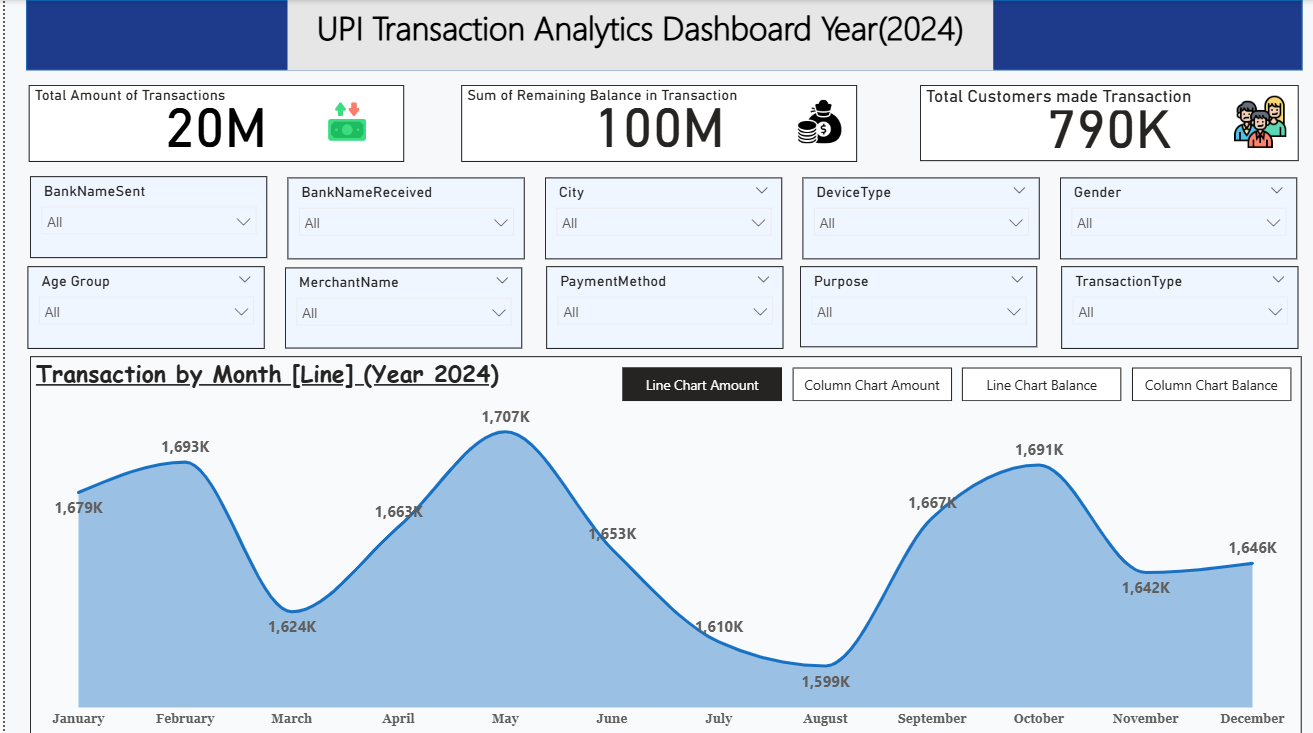

Layout of this report page (visuals, bound fields, positions):
{"tool":"powerbi","page":{"name":"Page 1","canvas":[1280,720],"ordinal":0},"visuals":[{"type":"slicer","fields":{"Values":["Sheet1.BankNameSent"]},"box":[23.9,172.6,232,80],"z":0},{"type":"slicer","fields":{"Values":["Sheet1.BankNameReceived"]},"box":[275.9,173.2,232,80],"z":1000},{"type":"slicer","fields":{"Values":["Sheet1.City"]},"box":[527.9,173.2,232,80],"z":2000},{"type":"slicer","fields":{"Values":["Sheet1.DeviceType"]},"box":[779.9,173.2,232,80],"z":3000},{"type":"slicer","fields":{"Values":["Sheet1.Gender"]},"box":[1031.9,173.2,232,80],"z":4000},{"type":"slicer","fields":{"Values":["Sheet1.Age Group"]},"box":[22.5,261,232.3,80.7],"z":5000},{"type":"slicer","fields":{"Values":["Sheet1.MerchantName"]},"box":[274.4,262.2,232.3,79.5],"z":6000},{"type":"slicer","fields":{"Values":["Sheet1.PaymentMethod"]},"box":[530,261,232.3,80.7],"z":7000},{"type":"slicer","fields":{"Values":["Sheet1.Purpose"]},"box":[778.2,261,232.3,79.5],"z":8000},{"type":"slicer","fields":{"Values":["Sheet1.TransactionType"]},"box":[1033.8,261,232.3,80.7],"z":9000},{"type":"lineChart","title":"Transaction by Month [Line] (Year 2024)","fields":{"Y":["Sum(Sheet1.Amount)"],"Category":["Sheet1.TransactionDate.Variation.Date Hierarchy.Month"]},"box":[24,348,1244,372],"z":11000},{"type":"bookmarkNavigator","box":[604,360,656,33.3],"z":14000},{"type":"shape","box":[20.3,0,1248.4,68.8],"z":15000},{"type":"textbox","box":[276.6,0,690.6,68.8],"z":16000},{"type":"card","title":"Total Amount of Transactions","fields":{"Values":["Sum(Sheet1.Amount)"]},"box":[23.4,82.8,367.2,75],"z":16001},{"type":"card","title":"Sum of Remaining Balance in Transaction","fields":{"Values":["Sum(Sheet1.RemainingBalance)"]},"box":[446.9,82.8,387.5,75],"z":16002},{"type":"card","title":"Total Customers made Transaction","fields":{"Values":["Sum(Sheet1.CustomerAge)"]},"box":[894.7,82.7,370.7,74.7],"z":16003},{"type":"image","box":[277.3,93.3,114.7,52],"z":16004},{"type":"image","box":[760,93.3,73.3,52],"z":16005},{"type":"image","box":[1196,88,64,62.7],"z":16006}]}

Visuals, with their boxes in screenshot pixels (x1, y1, x2, y2), scaled from the page's 1280x720 canvas onto the 1313x733 screenshot:
slicer - Sheet1.BankNameSent: box(25, 176, 262, 257)
slicer - Sheet1.BankNameReceived: box(283, 176, 521, 258)
slicer - Sheet1.City: box(542, 176, 779, 258)
slicer - Sheet1.DeviceType: box(800, 176, 1038, 258)
slicer - Sheet1.Gender: box(1059, 176, 1296, 258)
slicer - Sheet1.Age Group: box(23, 266, 261, 348)
slicer - Sheet1.MerchantName: box(281, 267, 520, 348)
slicer - Sheet1.PaymentMethod: box(544, 266, 782, 348)
slicer - Sheet1.Purpose: box(798, 266, 1037, 347)
slicer - Sheet1.TransactionType: box(1060, 266, 1299, 348)
"Transaction by Month [Line] (Year 2024)" lineChart: box(25, 354, 1301, 732)
bookmarkNavigator: box(620, 366, 1292, 400)
shape: box(21, 0, 1301, 70)
textbox: box(284, 0, 992, 70)
"Total Amount of Transactions" card: box(24, 84, 401, 161)
"Sum of Remaining Balance in Transaction" card: box(458, 84, 856, 161)
"Total Customers made Transaction" card: box(918, 84, 1298, 160)
image: box(284, 95, 402, 148)
image: box(780, 95, 855, 148)
image: box(1227, 90, 1292, 153)
